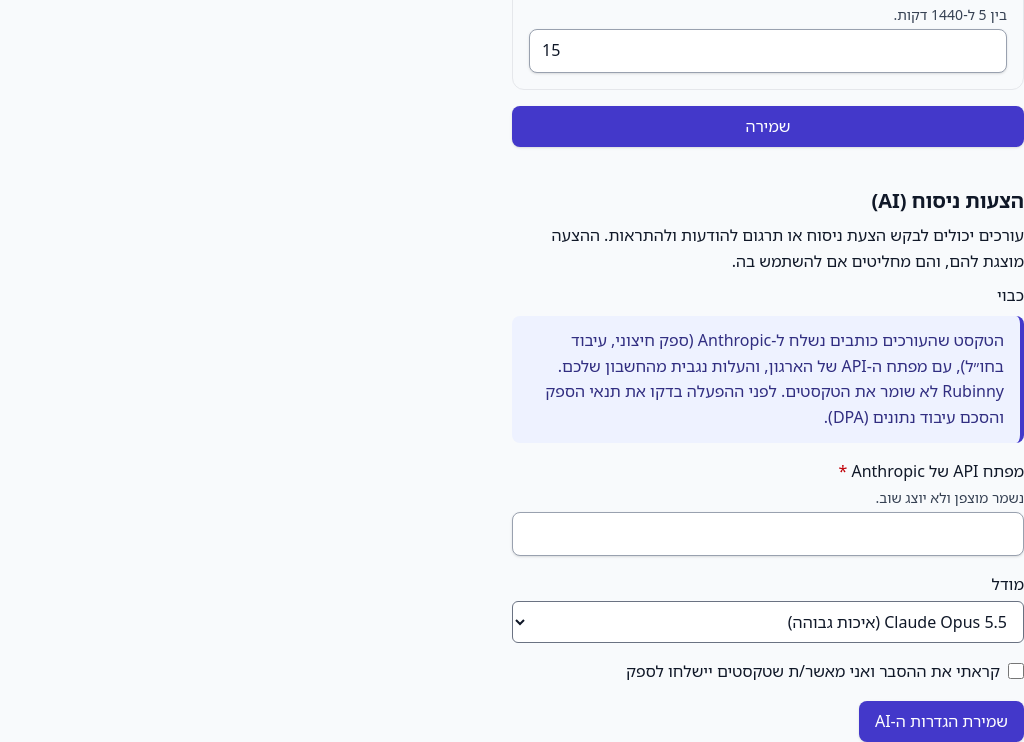
Test case: AI writing suggestions › admins turn it on with a key, explicit consent and a model; and off again
(page scrolled)
Expected: the text "כבוי" is shown, [997, 284, 1023, 306]
Expected: the number of buttons "שמירה" is 1, [512, 106, 1023, 147]
Type "sk-ant-wrong-000000000000" into the password field labelled "מפתח API של Anthropic *" at (768, 534), box [512, 512, 1023, 556]
Click the checkbox labelled "קראתי את ההסבר ואני מאשר/ת שטקסטים יישלחו לספק" at (1016, 671), box [1008, 663, 1023, 679]
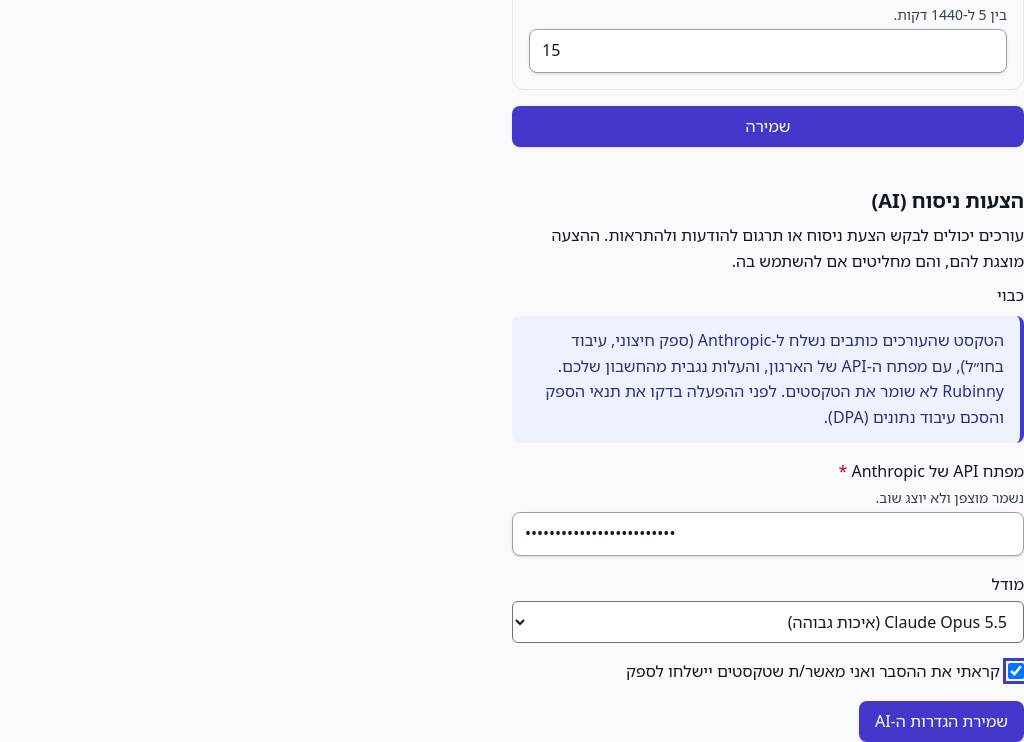
Select "Claude Haiku 5.5 (מהיר וזול)" in the dropdown labelled "מודל" at (768, 622), box [512, 601, 1023, 643]
Click the button "שמירת הגדרות ה-AI" at (942, 722), box [859, 701, 1023, 741]
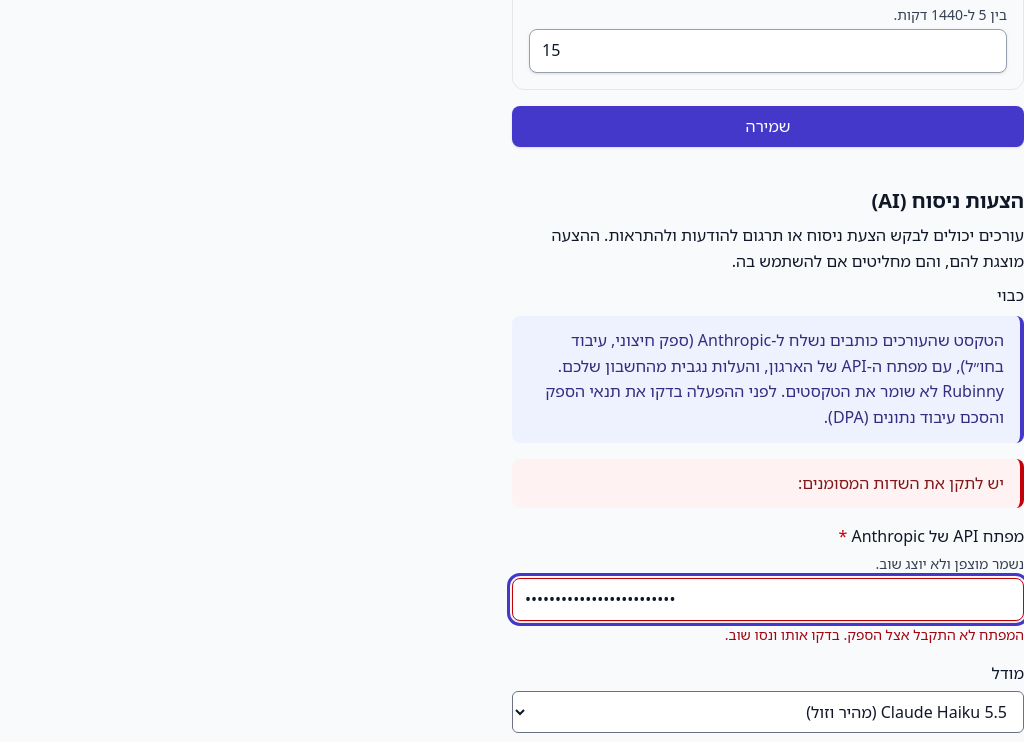
Expected: the text "המפתח לא התקבל אצל הספק. בדקו אותו ונסו שוב." is shown, [725, 625, 1023, 644]
Type "sk-ant-good-0000000000WXYZ" into the password field labelled "מפתח API של Anthropic *" at (768, 600), box [512, 578, 1023, 621]
(page scrolled)
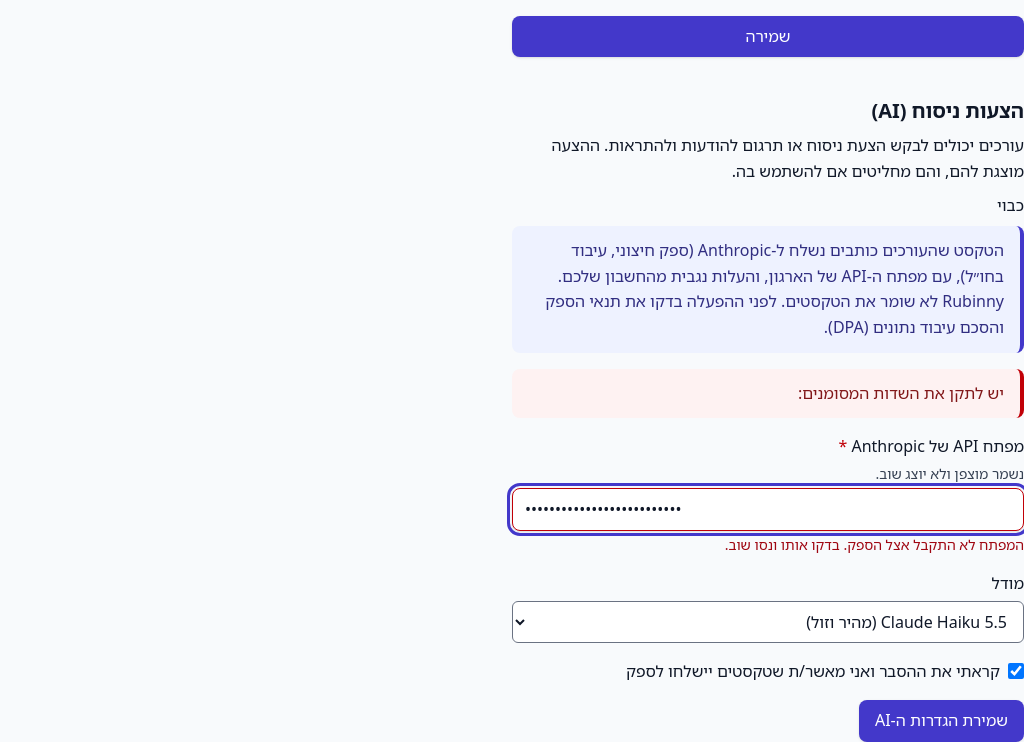
Click the button "שמירת הגדרות ה-AI" at (942, 721), box [859, 700, 1023, 741]
(page scrolled)
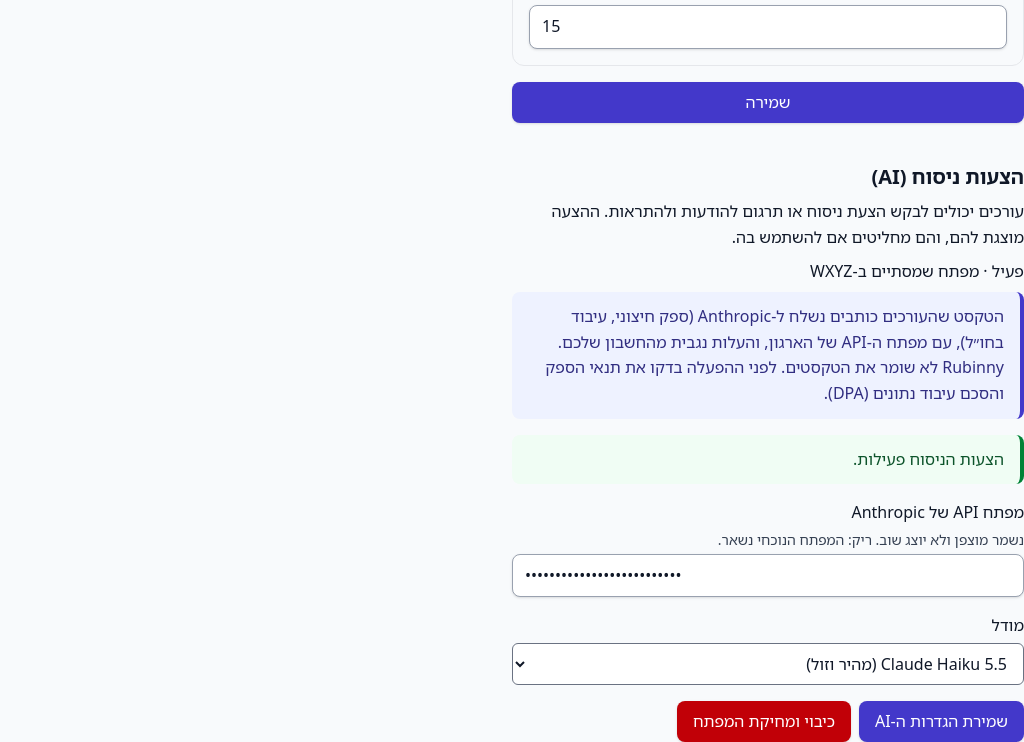
Expected: the text "פעיל · מפתח שמסתיים ב-WXYZ" is shown, [810, 260, 1023, 282]
Click the button "כיבוי ומחיקת המפתח" at (764, 722), box [677, 701, 851, 741]
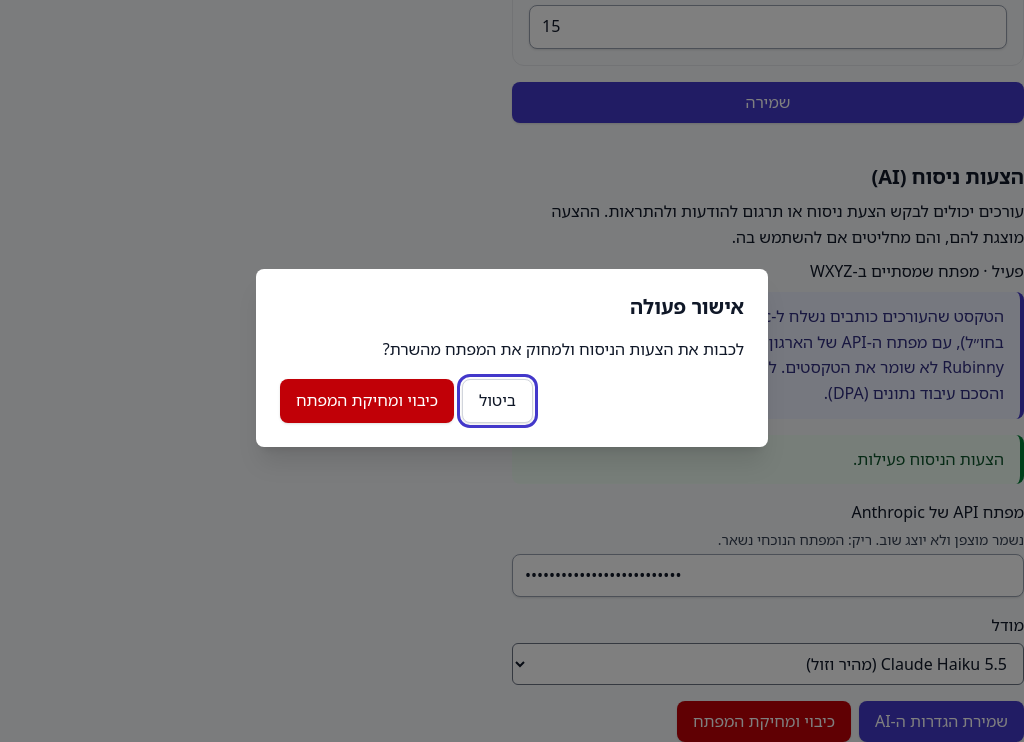
Click the button "כיבוי ומחיקת המפתח" at (367, 401), box [280, 379, 454, 423]
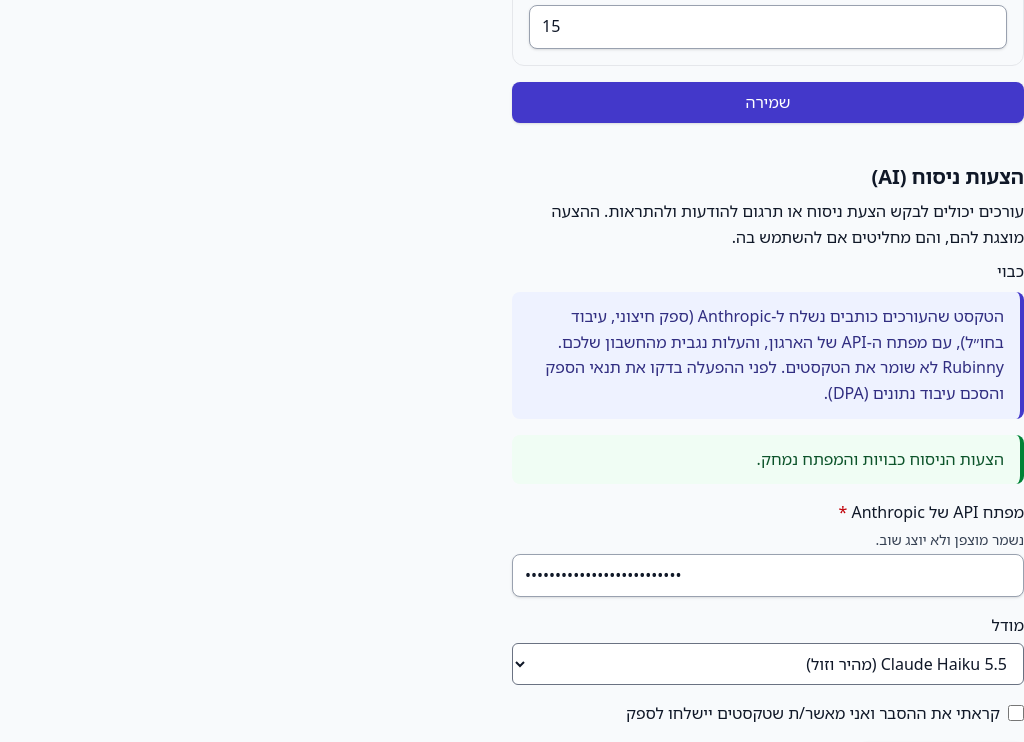
Expected: the text "הצעות הניסוח כבויות והמפתח נמחק." is shown, [512, 434, 1023, 484]
